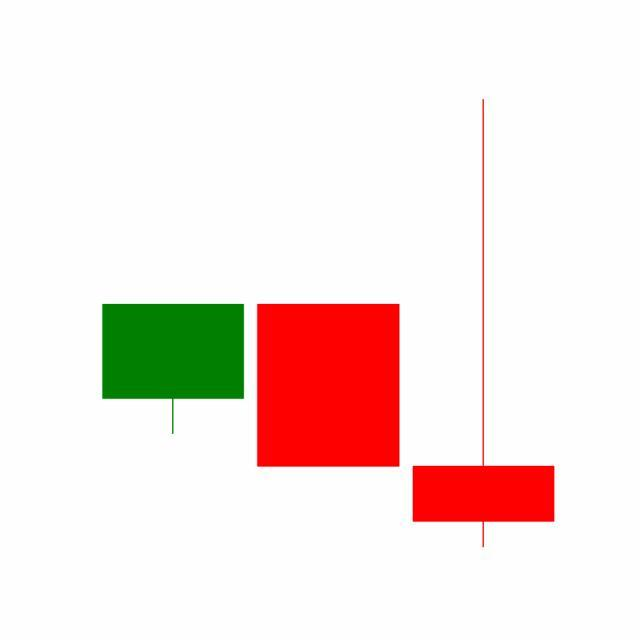Marubozu: (250, 302, 407, 469)
